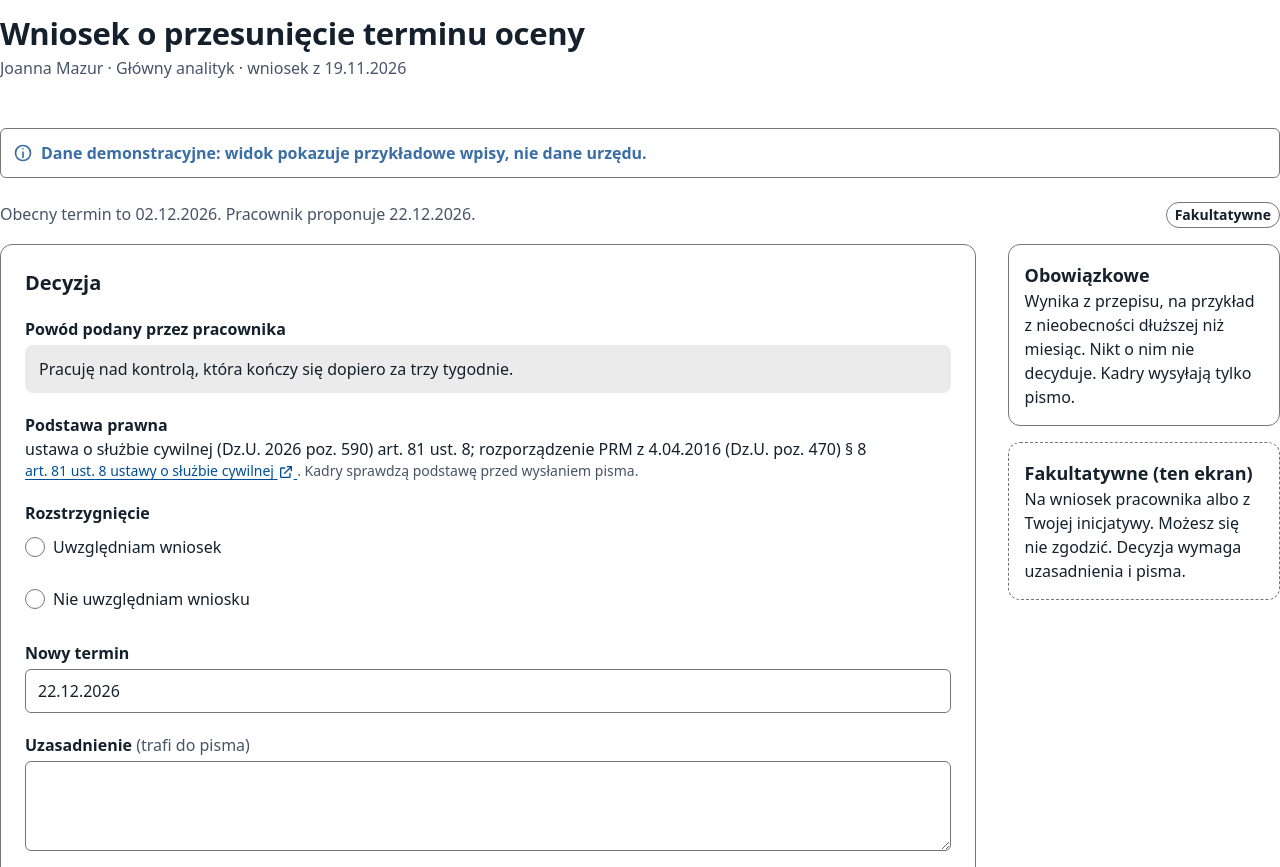
Test: DeadlineShiftPage › saves an acceptance, says the date moves only after HR sends the letter, and goes read-only
Click the radio button labelled "Uwzględniam wniosek".
click(35, 547)  # box [25,537,45,557]
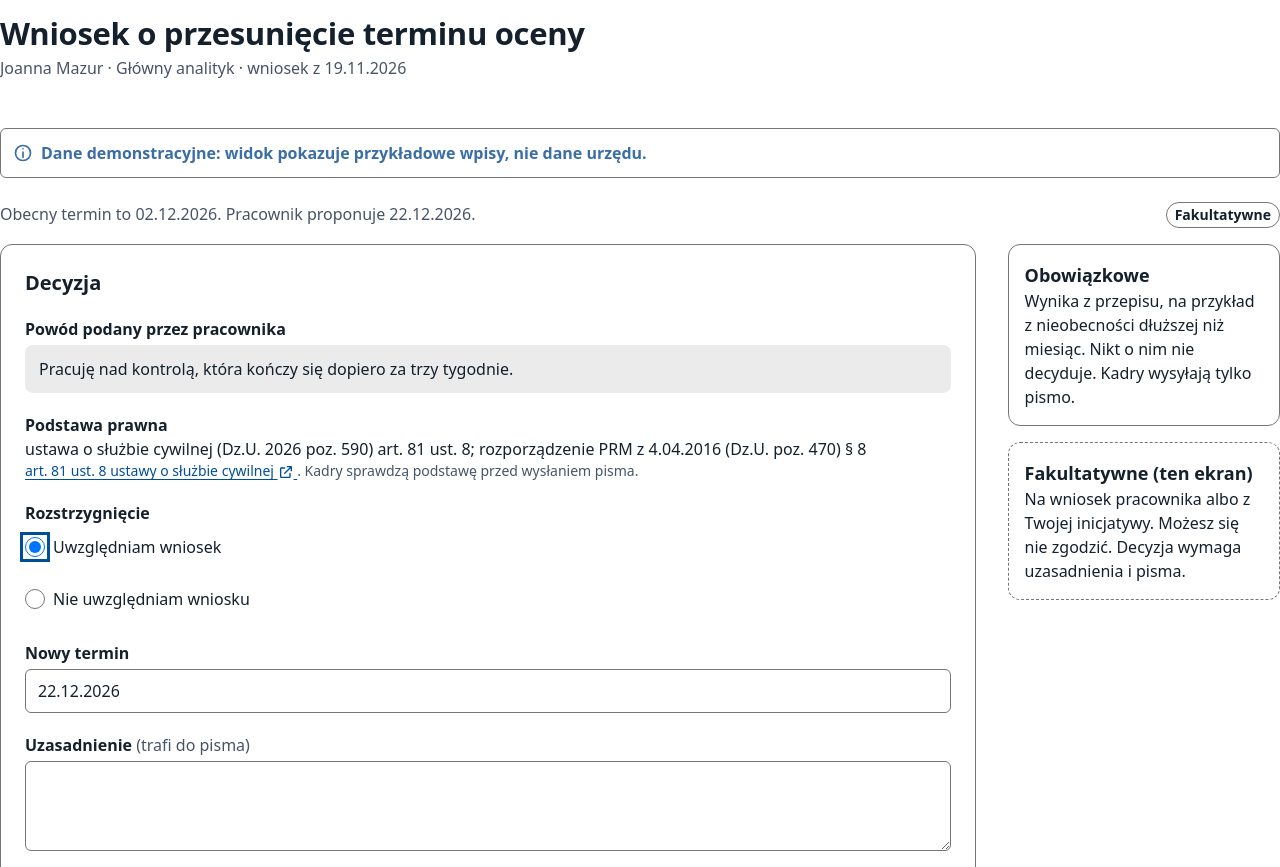
Type "Zgoda." into the text box labelled "Uzasadnienie (trafi do pisma)".
click(488, 806); type("Zgoda.")  # box [25,761,951,851]
(page scrolled)
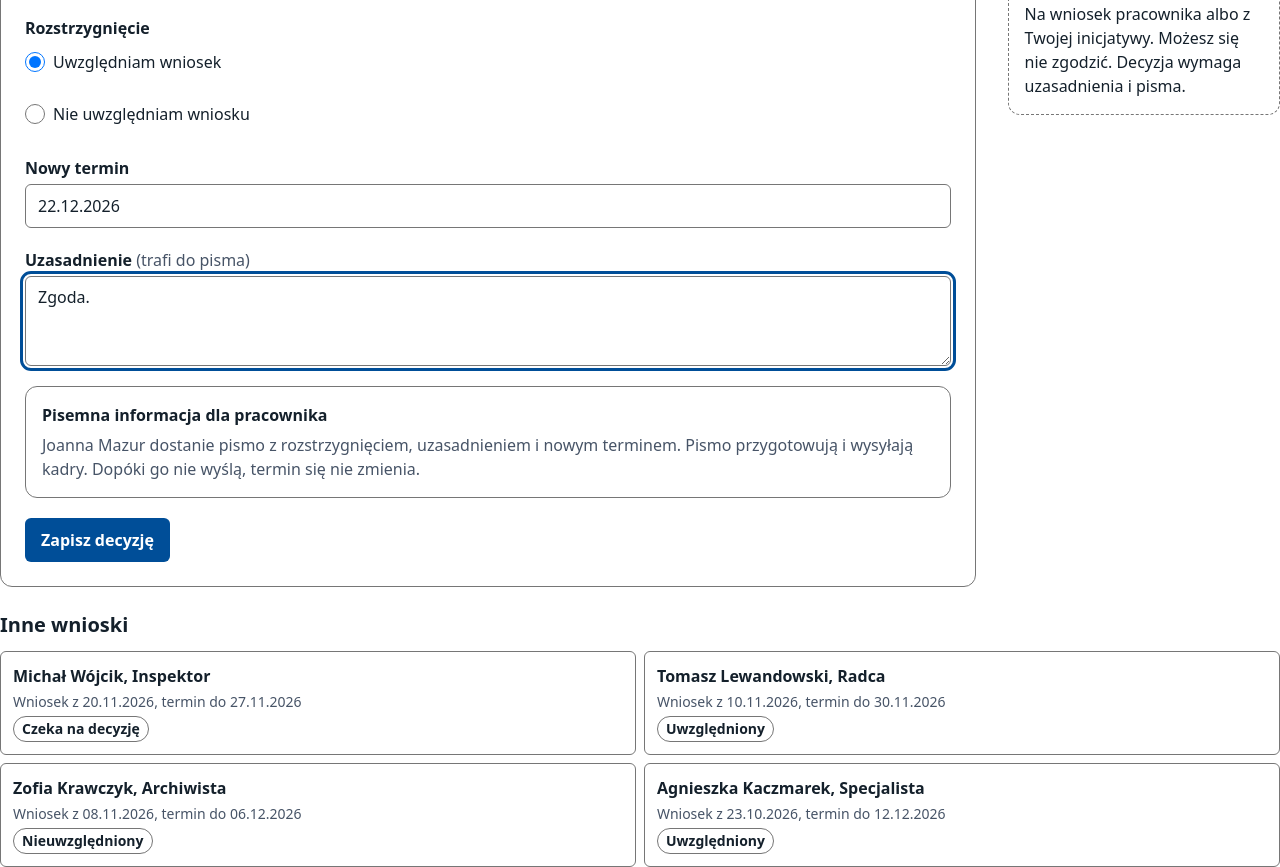
Click the button named "Zapisz decyzję i przekaż do kadr".
click(97, 540)  # box [25,518,170,562]
(page scrolled)
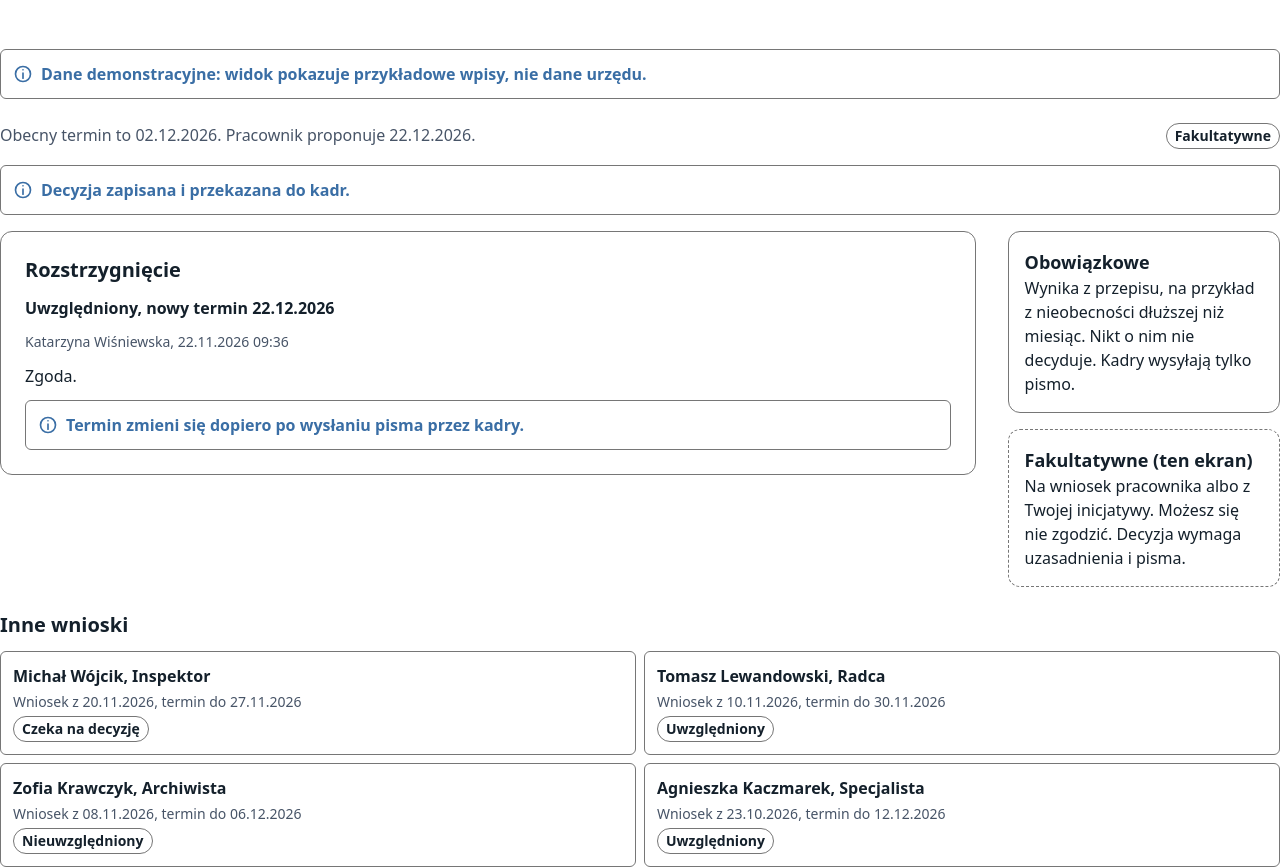
Expected: the button "Zapisz decyzję i przekaż do kadr" is not shown
Expected: the text "Termin zmieni się dopiero po wysłaniu pisma przez kadry." is shown, [66,413,524,437]
